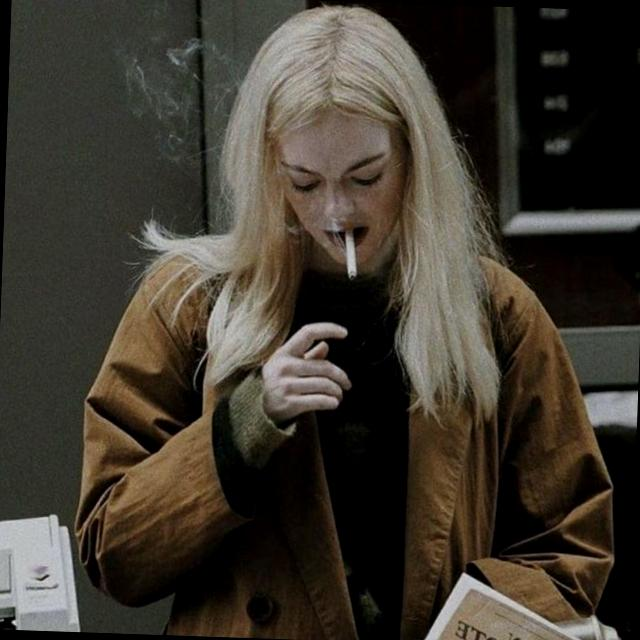smoke: (318, 219, 363, 291)
